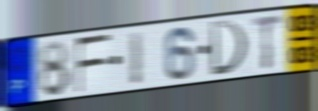6: (164, 25, 195, 82)
8: (38, 39, 72, 97)
D: (209, 18, 250, 78)
F: (75, 32, 113, 95)
I: (128, 29, 144, 88)
T: (251, 13, 285, 72)
